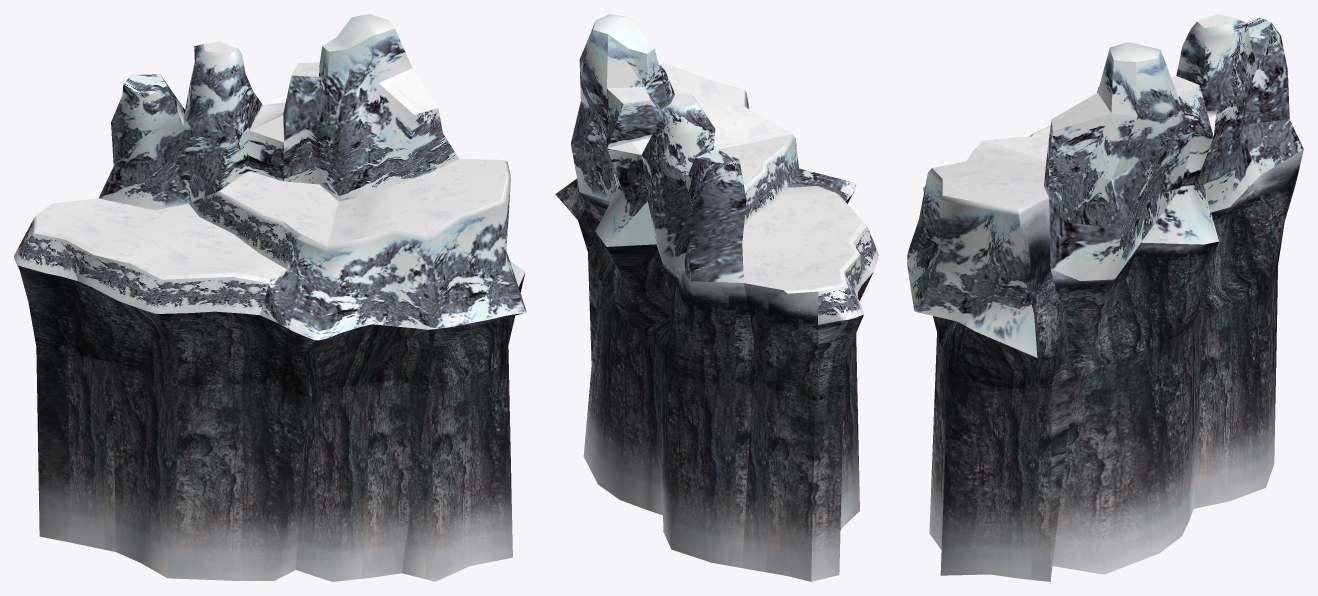
Rendered from san001.obj.
3 views of the same model, side by side, from view 1: azimuth 30°, elevation 25°; view 2: azimuth 150°, elevation 25°; view 3: azimuth 270°, elevation 25° (orthographic). The views are drawn at different scales.
Parts seen in each view (by area): view 1: san001; view 2: san001; view 3: san001.
Boxes of the visible parts, x1,y1,x2,y2 form: san001: (14,14,526,581); san001: (555,14,878,581); san001: (907,14,1303,581).
Size of the model in its own units: 991 by 1102 by 784.
